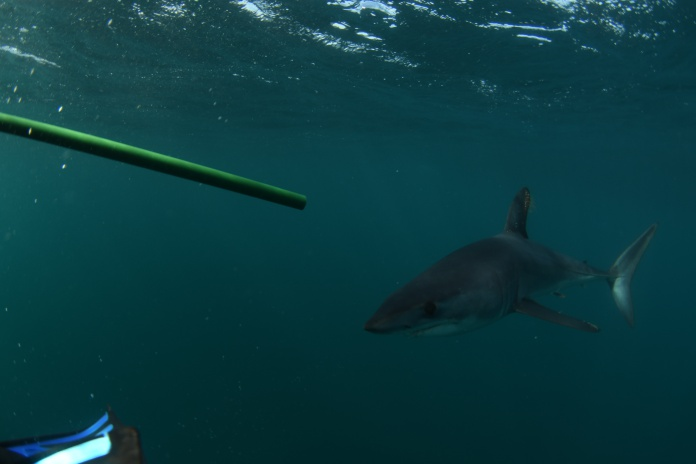Mako: (351, 181, 678, 364)
